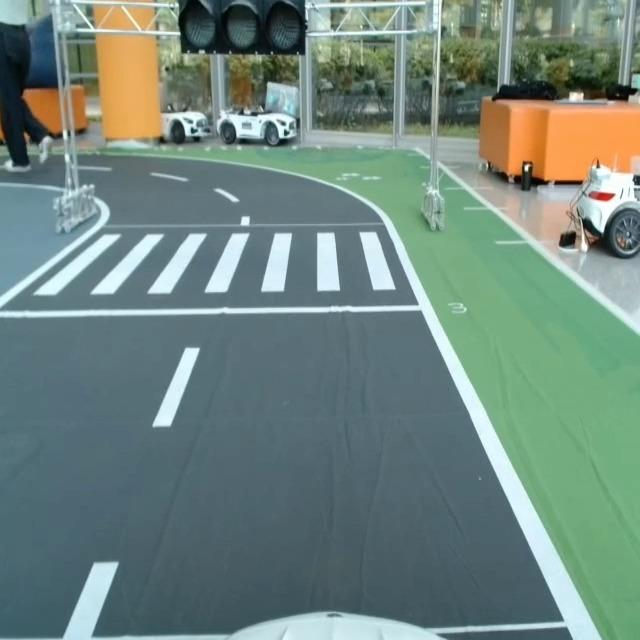traffic-light: (181, 0, 311, 56)
